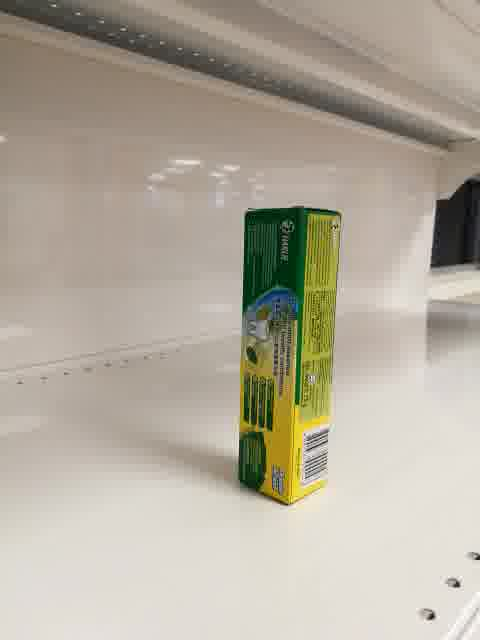toothpaste: (238, 207, 342, 507)
